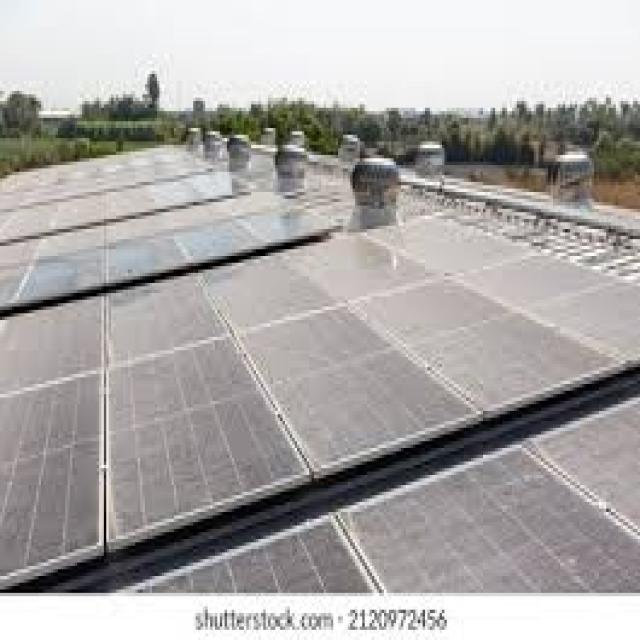dust-solar-panel: (0, 209, 640, 597)
